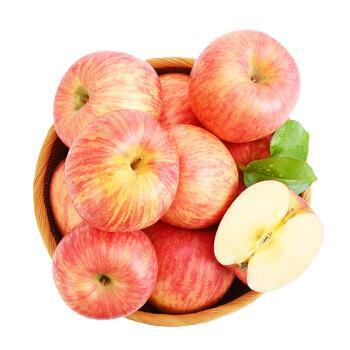apple: (65, 111, 179, 231), (213, 178, 326, 295), (190, 26, 301, 143), (50, 221, 158, 319), (52, 50, 163, 145), (142, 220, 235, 314), (163, 123, 238, 229)
